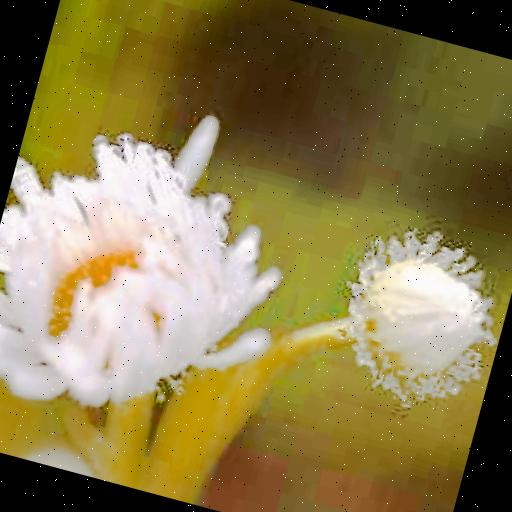daisy: (0, 99, 311, 454), (312, 212, 512, 426)
